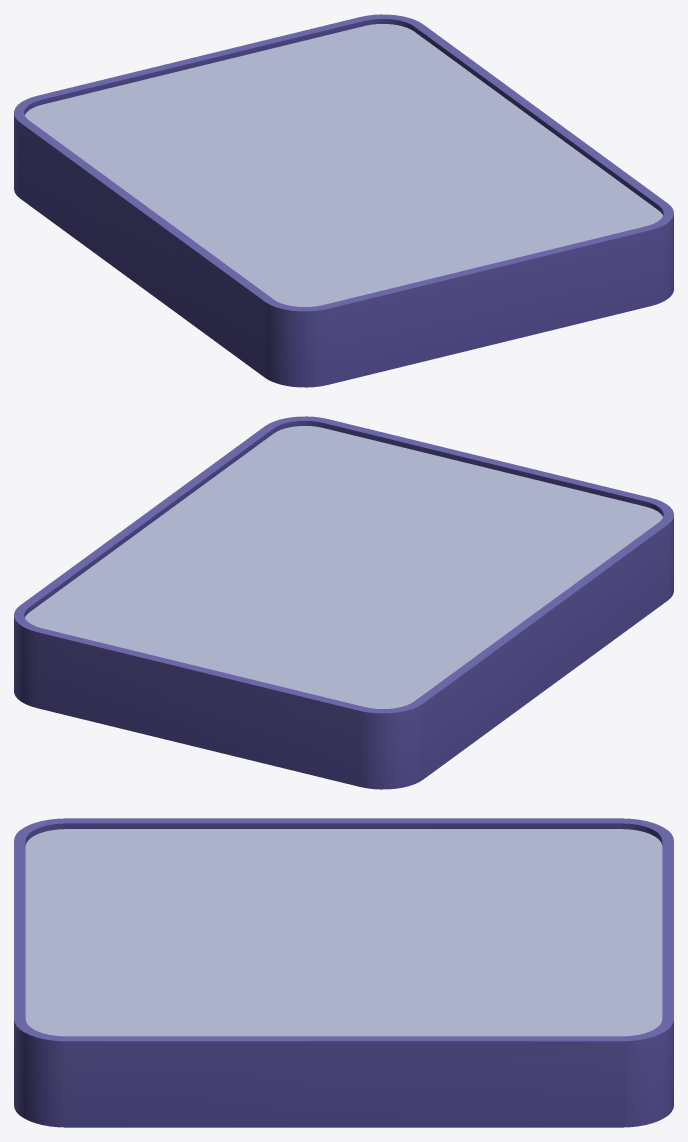
Rendered from table_2.fbx.
3 views of the same model, one above another, from view 1: azimuth 30°, elevation 25°; view 2: azimuth 150°, elevation 25°; view 3: azimuth 270°, elevation 25° (orthographic). The views are drawn at different scales.
Parts seen in each view (by area): view 1: Table; view 2: Table; view 3: Table.
Boxes of the visible parts, x1,y1,x2,y2 form: Table: [14, 14, 673, 387]; Table: [14, 416, 673, 789]; Table: [14, 818, 673, 1127].
Bounding box in the file's own units: 4.94 × 0.8917 × 6.19.
